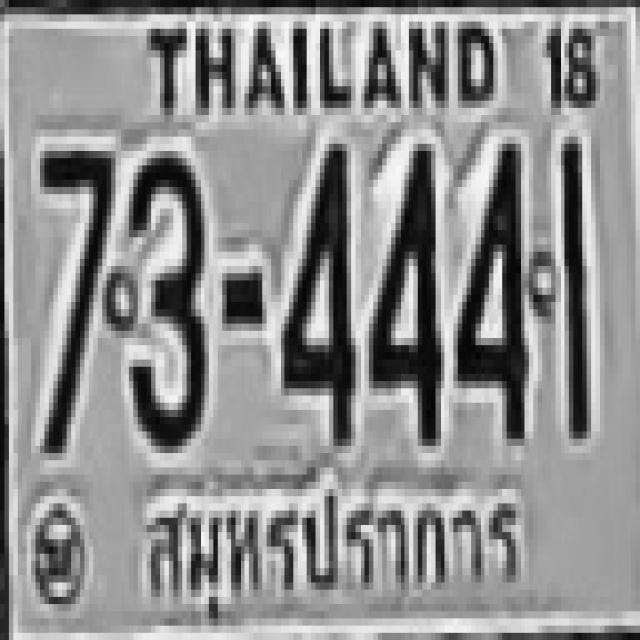1: (560, 130, 582, 438)
3: (116, 144, 200, 446)
4: (280, 136, 351, 438), (367, 136, 438, 438), (454, 136, 524, 438)
7: (36, 148, 111, 450), (36, 144, 111, 359)
SamutPrakan: (136, 481, 528, 639)
